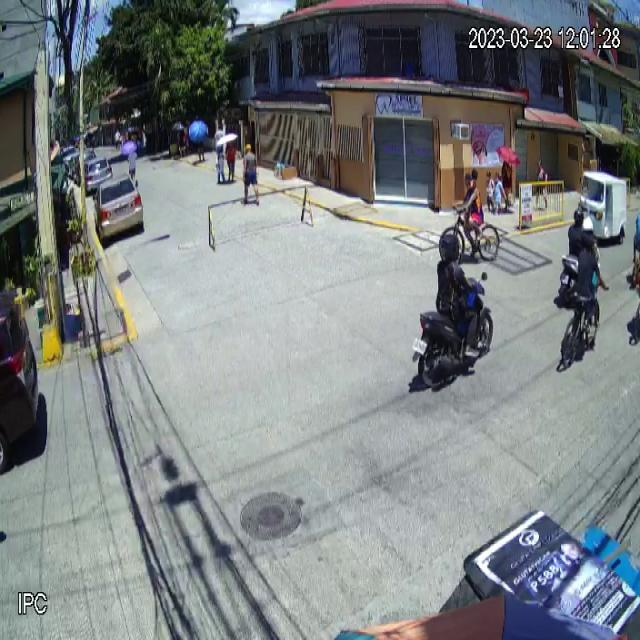Motorcycle: (410, 270, 493, 394)
